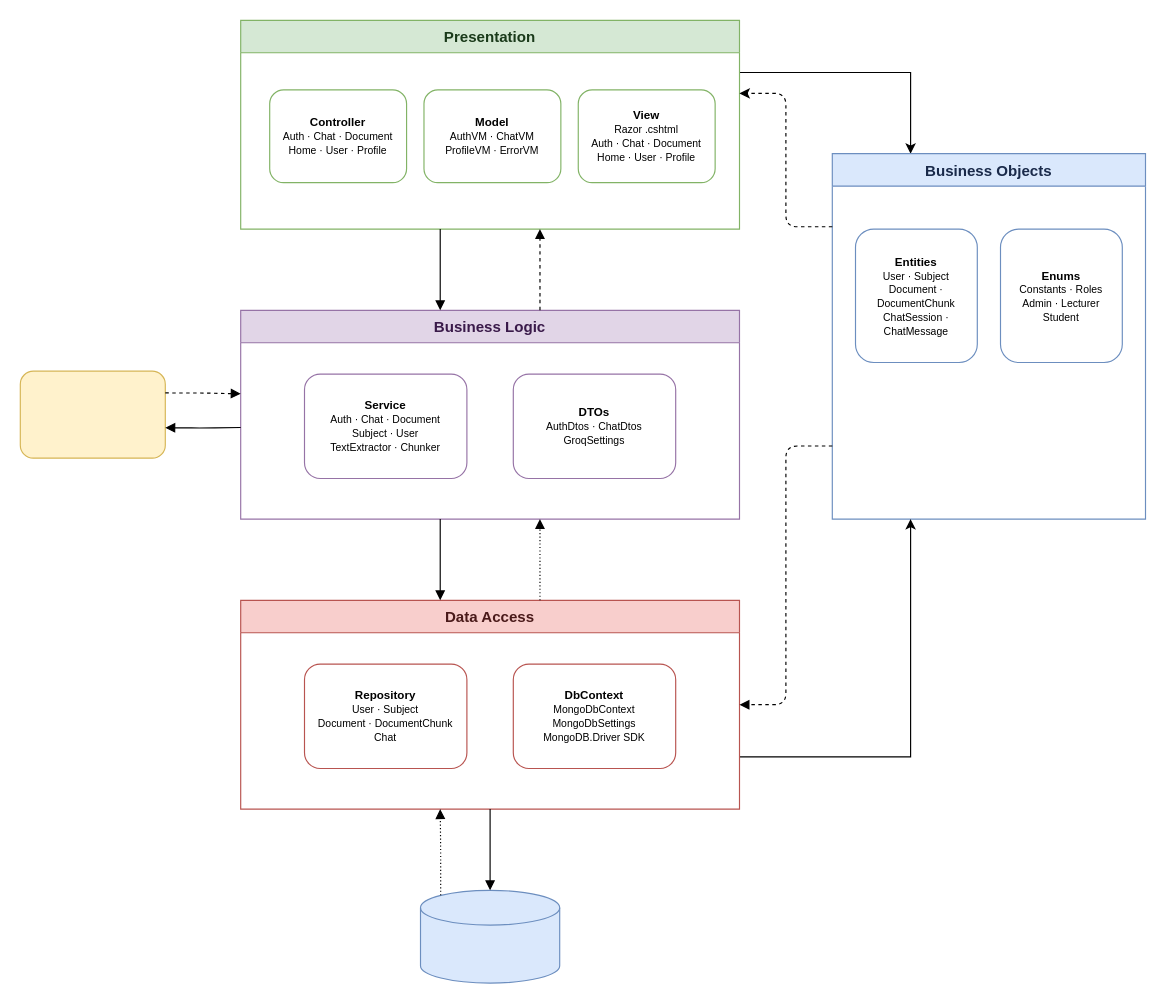
Some shapes in this 1166 by 1003 pixel diagram are drawn without their labels. The centre of each missing label's shape, as x and y in pixels:
"AI Service GroqService llama-3.3-70b-versatile" belongs at pixel 92 414.
"DB" belongs at pixel 489 936.
